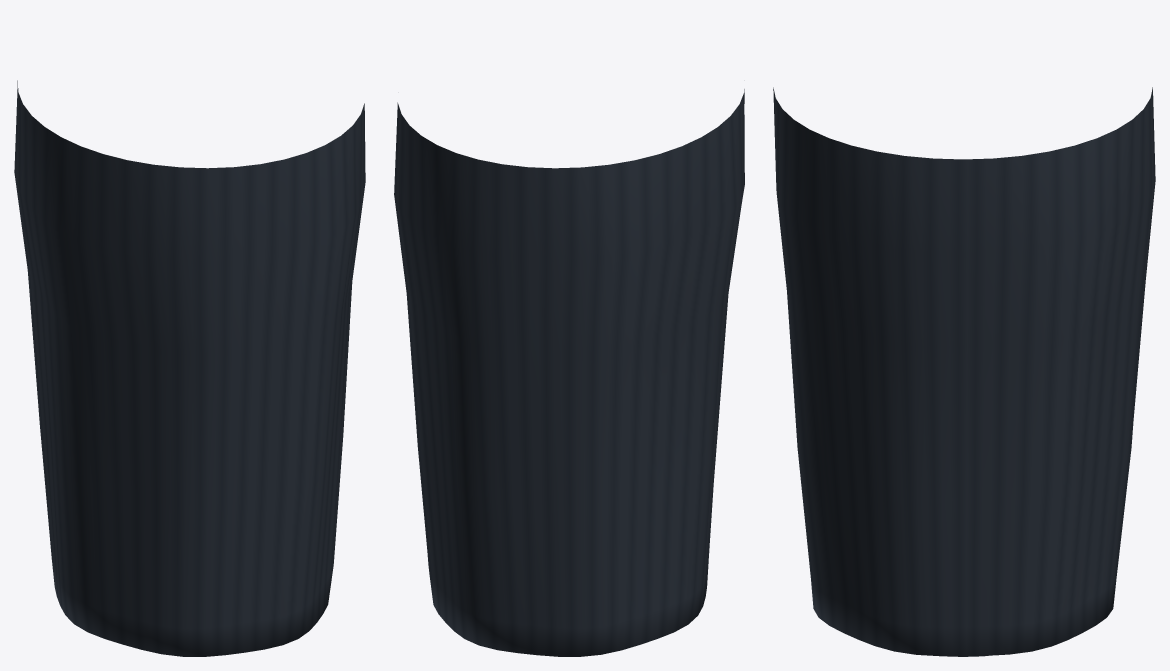
The model's file is reference_denim_shorts.gltf.
3 views of the same model, side by side, from view 1: azimuth 30°, elevation 25°; view 2: azimuth 150°, elevation 25°; view 3: azimuth 270°, elevation 25° (orthographic).
Parts seen in each view (by area): view 1: LegL; view 2: LegL; view 3: LegL.
Boxes of the visible parts, <box> form: LegL: <box>14,80,365,656</box>; LegL: <box>394,89,744,656</box>; LegL: <box>773,87,1155,656</box>.
Bounding box in the file's own units: 0.2182 × 0.359 × 0.2397.
1 material, 1 textured.
